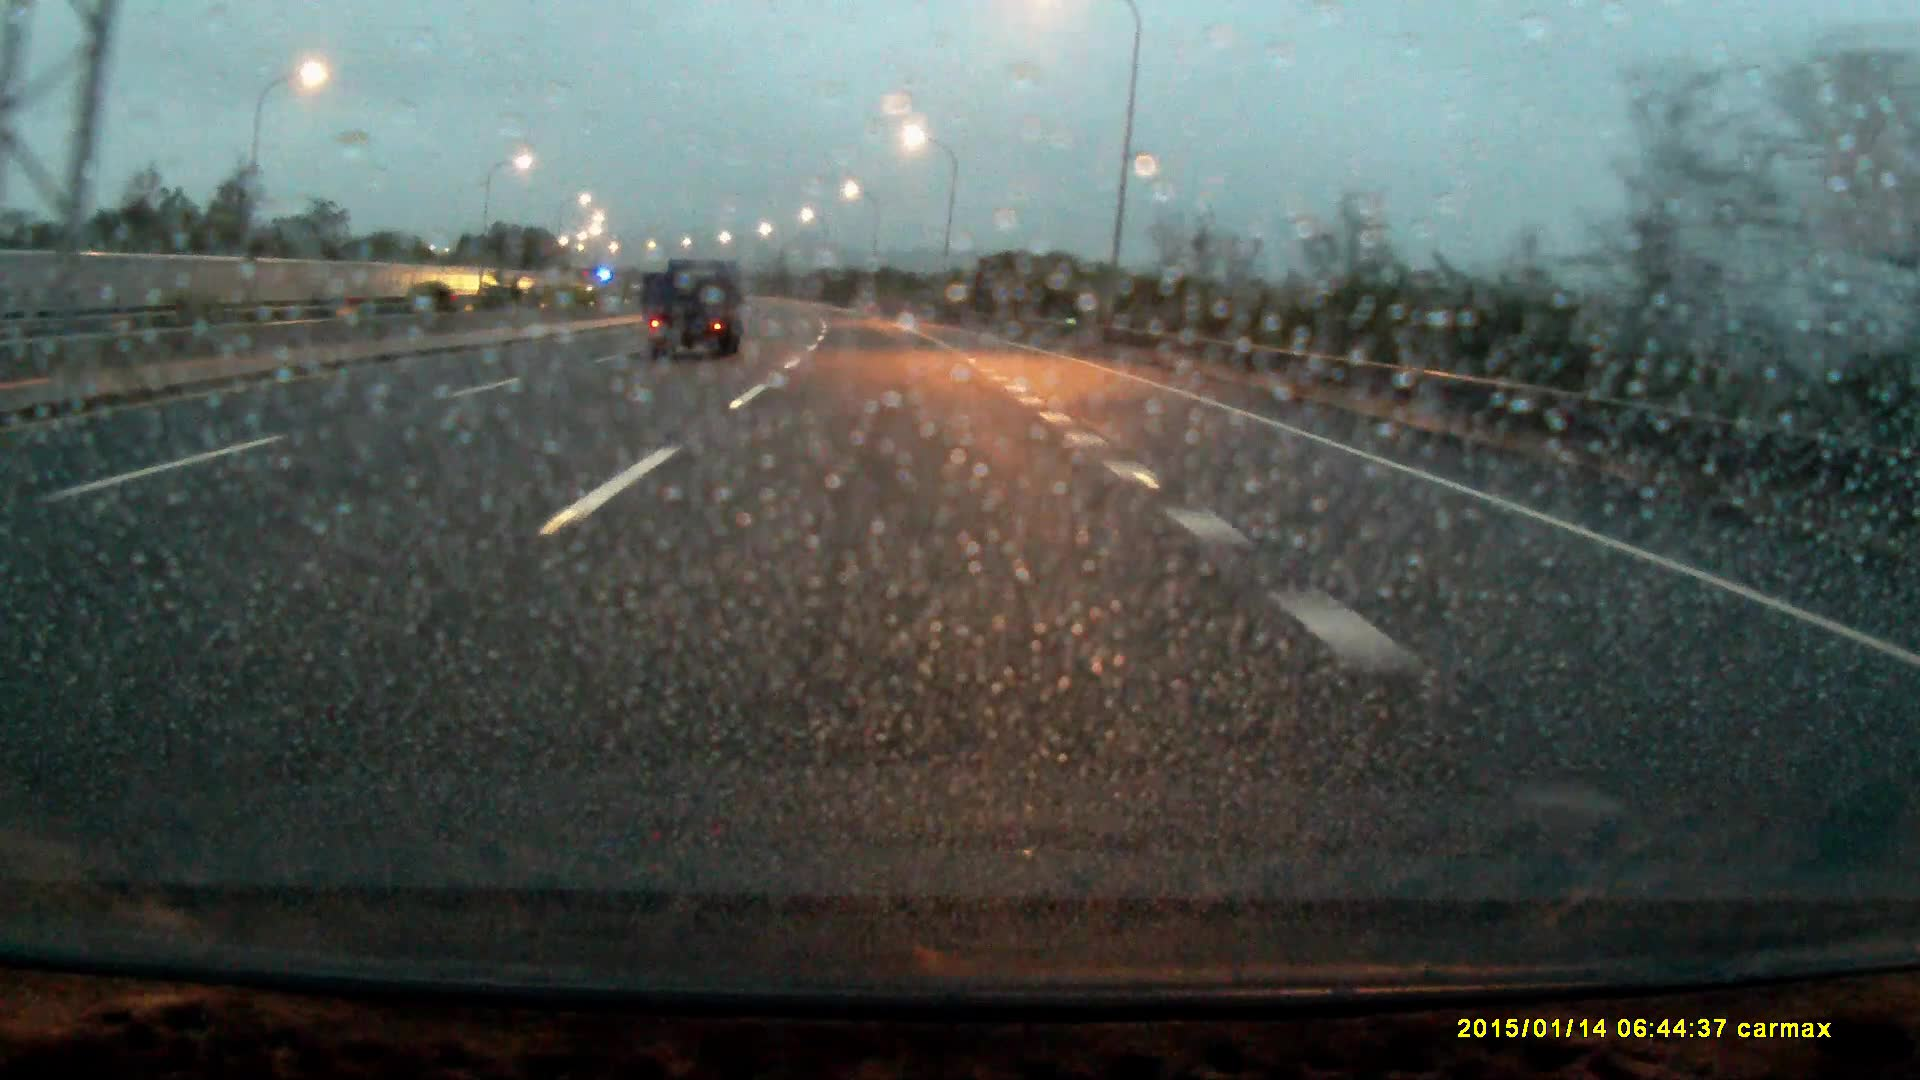vehicle: (645, 255, 746, 367)
